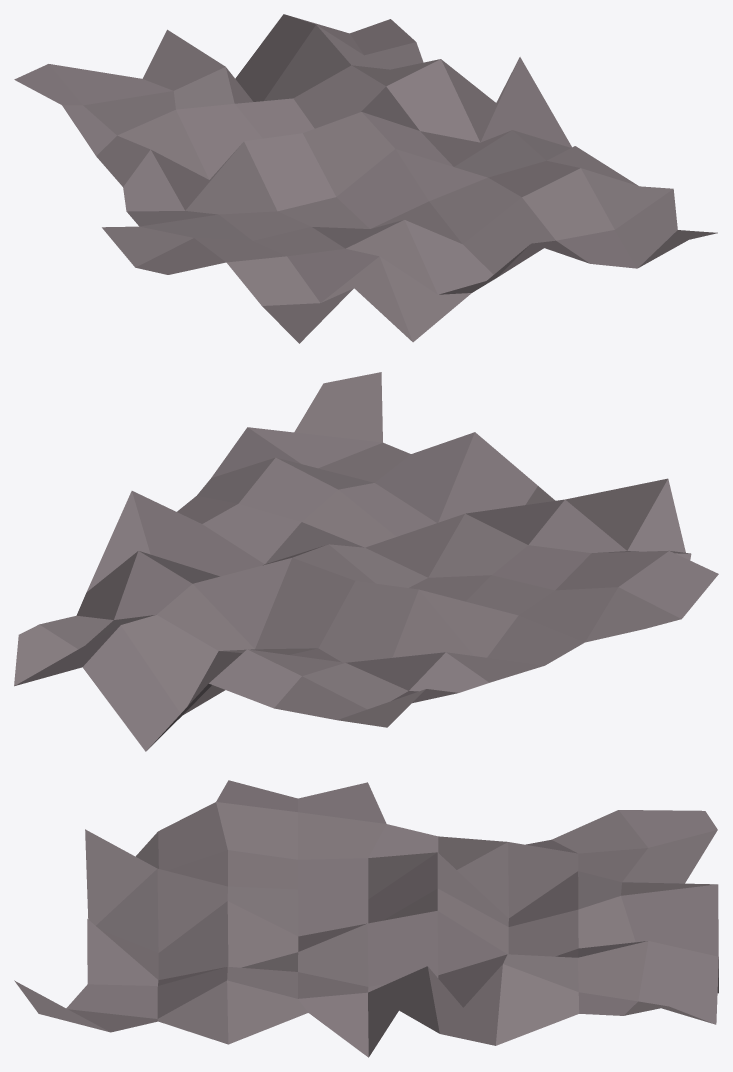
File: Scrap3.fbx
The picture shows the model from 3 angles, top to bottom: view 1: azimuth 30°, elevation 25°; view 2: azimuth 150°, elevation 25°; view 3: azimuth 270°, elevation 25°; orthographic projection. The views are drawn at different scales.
Visible parts, largest first — view 1: Bake.009; view 2: Bake.009; view 3: Bake.009.
Part boxes in pixels (bbox=[...]): Bake.009: bbox=[14, 14, 717, 343]; Bake.009: bbox=[14, 372, 718, 751]; Bake.009: bbox=[14, 780, 718, 1057].
Size of the model in its own units: 651 by 134 by 814.
Materials: 2 (1 with a texture image).
